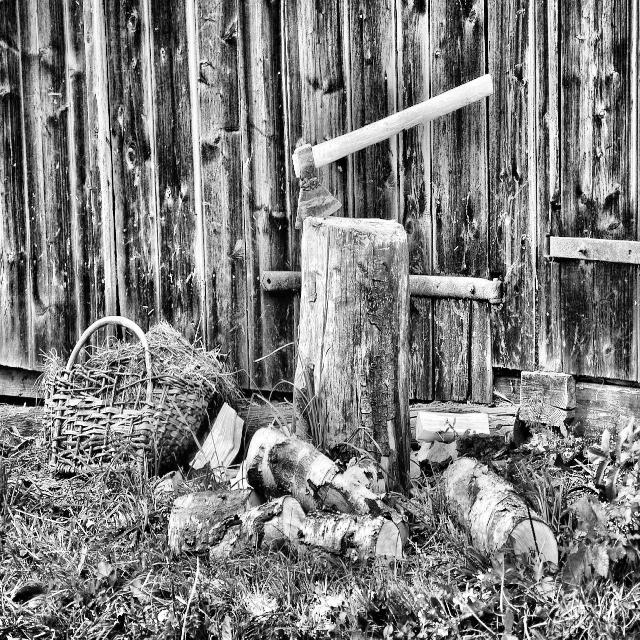kapak: (287, 65, 496, 230)
